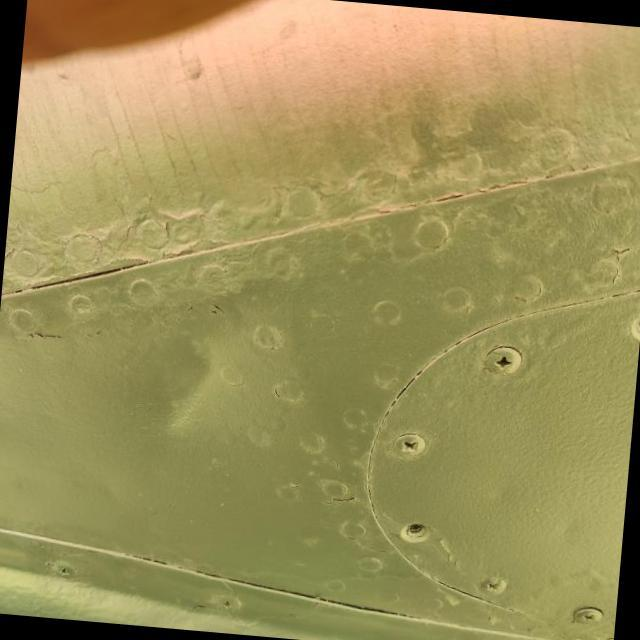Dent: (109, 302, 248, 461)
Fastener Damage: (376, 499, 448, 563)
